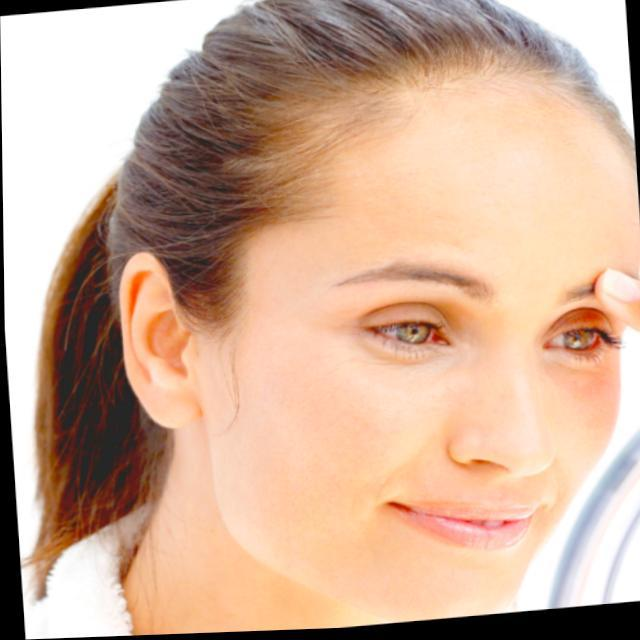Puffy Eyes - v3 Dark Circle: (351, 334, 462, 388), (538, 358, 622, 396)
